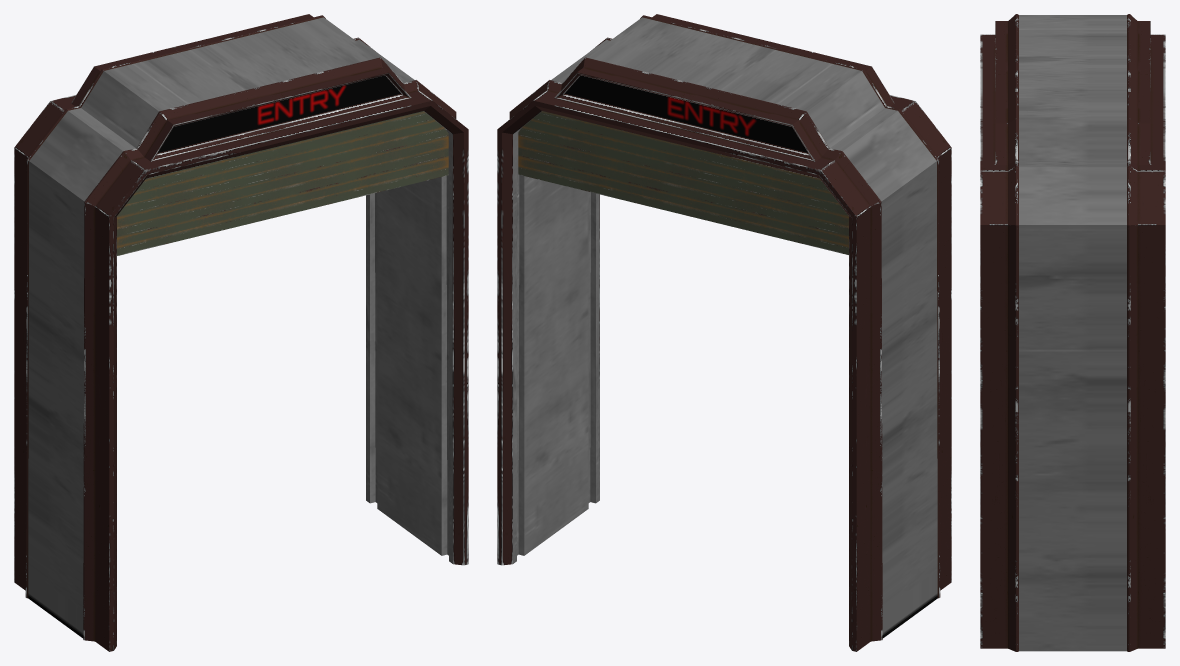
The model's file is Door_ENTRY.fbx.
The picture shows the model from 3 angles, left to right: view 1: azimuth 30°, elevation 25°; view 2: azimuth 150°, elevation 25°; view 3: azimuth 270°, elevation 25°; orthographic projection. The views are drawn at different scales.
Parts seen in each view (by area): view 1: Door_ENTRY; view 2: Door_ENTRY; view 3: Door_ENTRY.
Part boxes in pixels (x1,y1,x2,y2): Door_ENTRY: (14, 14, 468, 651); Door_ENTRY: (497, 14, 951, 651); Door_ENTRY: (980, 14, 1165, 651).
Bounding box in the file's own units: 7.79 × 10.17 × 3.44.
